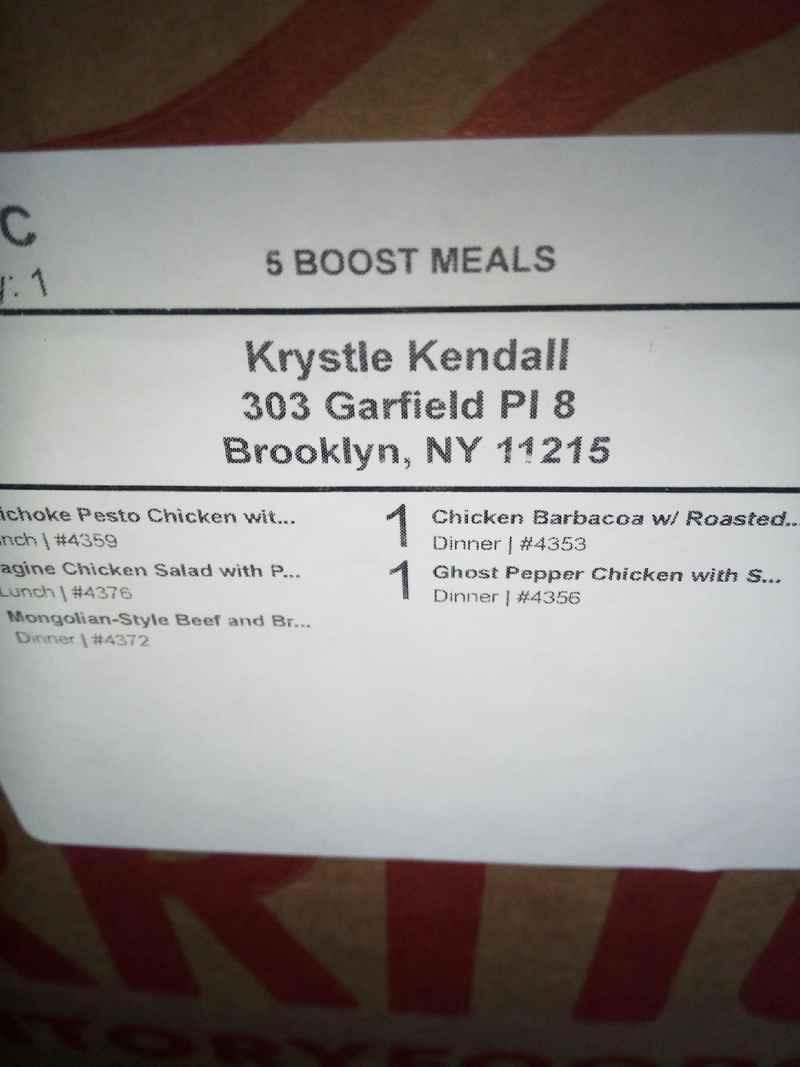package: (0, 1, 800, 1067)
